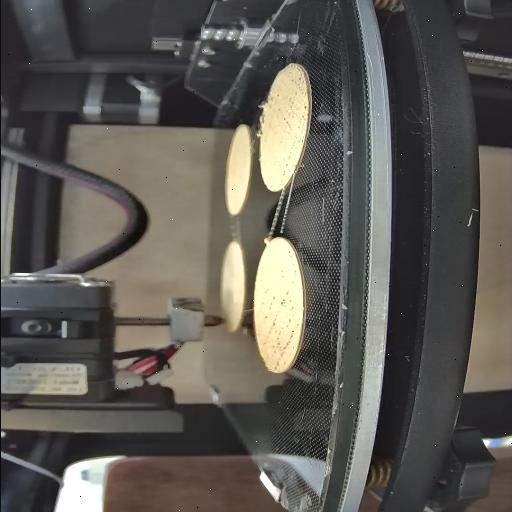under_extrusion: (258, 290, 294, 372), (274, 76, 304, 134), (276, 248, 302, 283), (278, 148, 296, 180)
